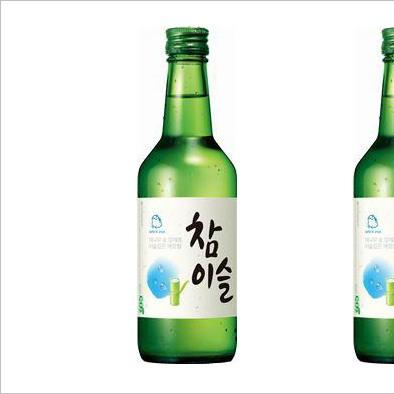soju: (136, 22, 240, 367), (352, 28, 394, 368)
